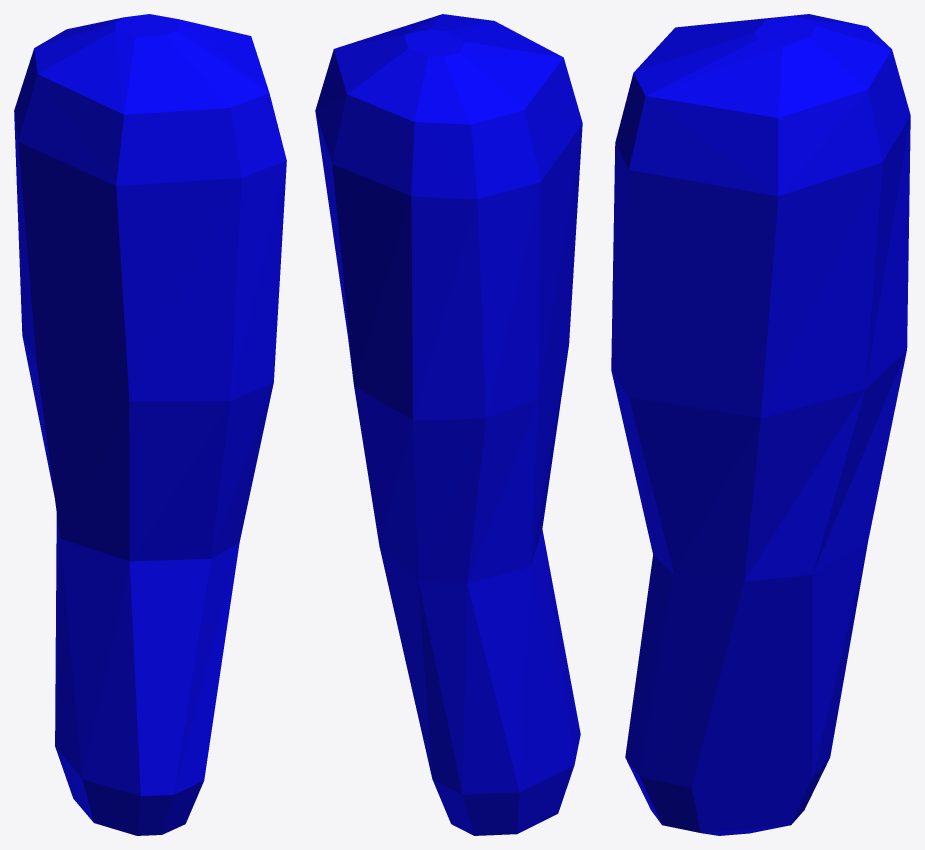
File: LForearm_mesh.dae
3 renders of one model, left to right at view 1: azimuth 30°, elevation 25°; view 2: azimuth 150°, elevation 25°; view 3: azimuth 270°, elevation 25°, orthographic. The views are drawn at different scales.
Visible parts, largest first — view 1: LForearm; view 2: LForearm; view 3: LForearm.
Boxes of the visible parts, left/top/right/bottom form: LForearm: left=14, top=14, right=286, bottom=835; LForearm: left=315, top=14, right=582, bottom=835; LForearm: left=611, top=14, right=910, bottom=835.
Bounding box in the file's own units: 0.0975 × 0.3042 × 0.1004.
